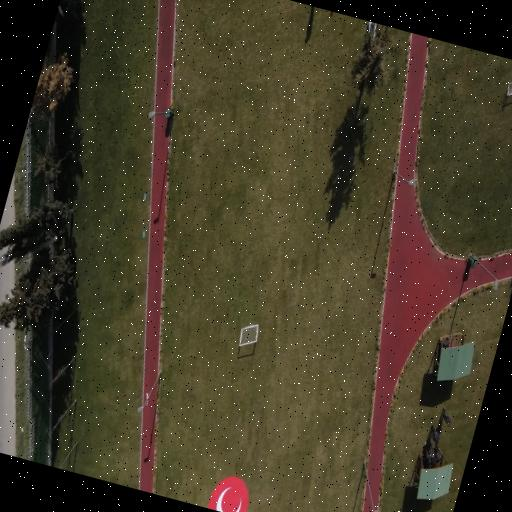UAI: (207, 476, 248, 512)
person: (432, 424, 441, 442), (443, 407, 451, 426), (434, 443, 442, 461)
